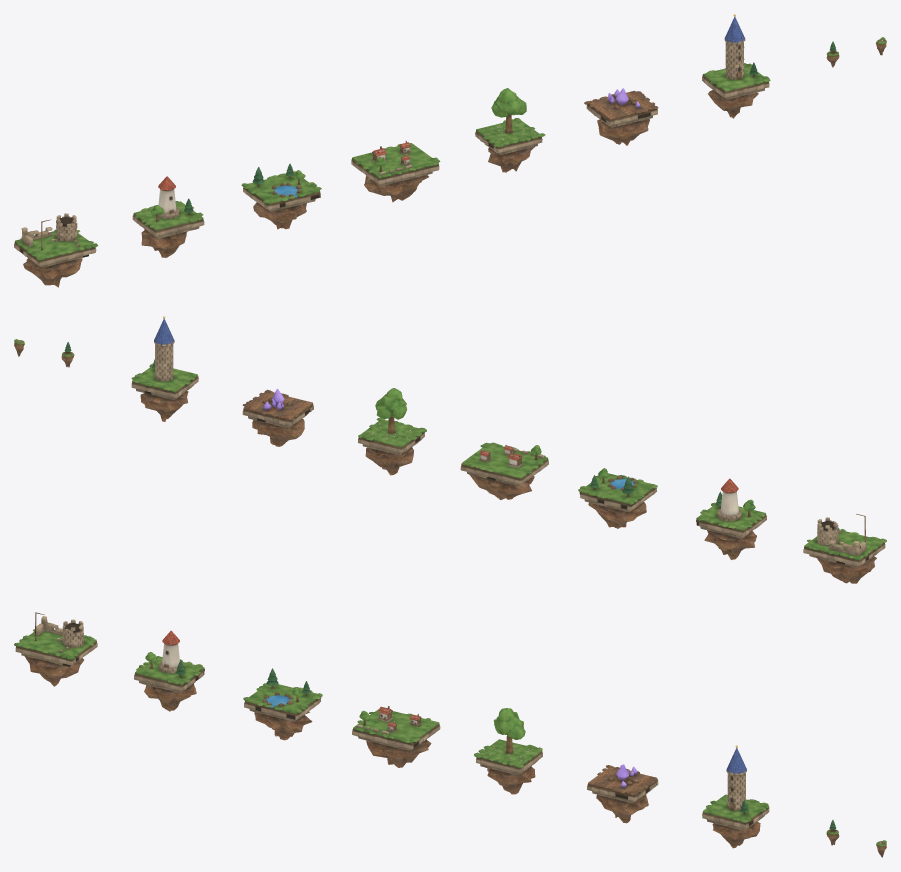
Rendered from islands.glb.
3 views of the same model, one above another, from view 1: azimuth 30°, elevation 25°; view 2: azimuth 150°, elevation 25°; view 3: azimuth 330°, elevation 25° (orthographic).
Visible parts, largest first — view 1: isl_ruins, isl_village, isl_tower, isl_tree, isl_waterfall, isl_windmill, isl_crystal; view 2: isl_village, isl_ruins, isl_tree, isl_tower, isl_windmill, isl_waterfall, isl_crystal; view 3: isl_ruins, isl_village, isl_tree, isl_tower, isl_waterfall, isl_windmill, isl_crystal.
Boxes of the visible parts, x1,y1,x2,y2 form: isl_ruins: (14, 213, 97, 287); isl_village: (351, 140, 440, 202); isl_tower: (702, 14, 770, 118); isl_tree: (475, 88, 545, 172); isl_waterfall: (241, 163, 321, 229); isl_windmill: (132, 176, 204, 257); isl_crystal: (584, 88, 658, 145); isl_village: (460, 442, 548, 499); isl_ruins: (803, 514, 886, 583); isl_tree: (358, 388, 426, 475); isl_tower: (131, 316, 198, 421); isl_windmill: (696, 478, 766, 559); isl_waterfall: (578, 468, 657, 528); isl_crystal: (242, 389, 313, 446); isl_ruins: (14, 612, 97, 686); isl_village: (352, 706, 440, 767); isl_tree: (474, 708, 542, 794); isl_tower: (702, 745, 769, 848); isl_waterfall: (243, 668, 322, 740); isl_windmill: (134, 630, 204, 711); isl_crystal: (587, 764, 658, 823).
Size of the model in its own units: 106 by 12.43 by 6.58.
Materials: 1 (1 with a texture image).
